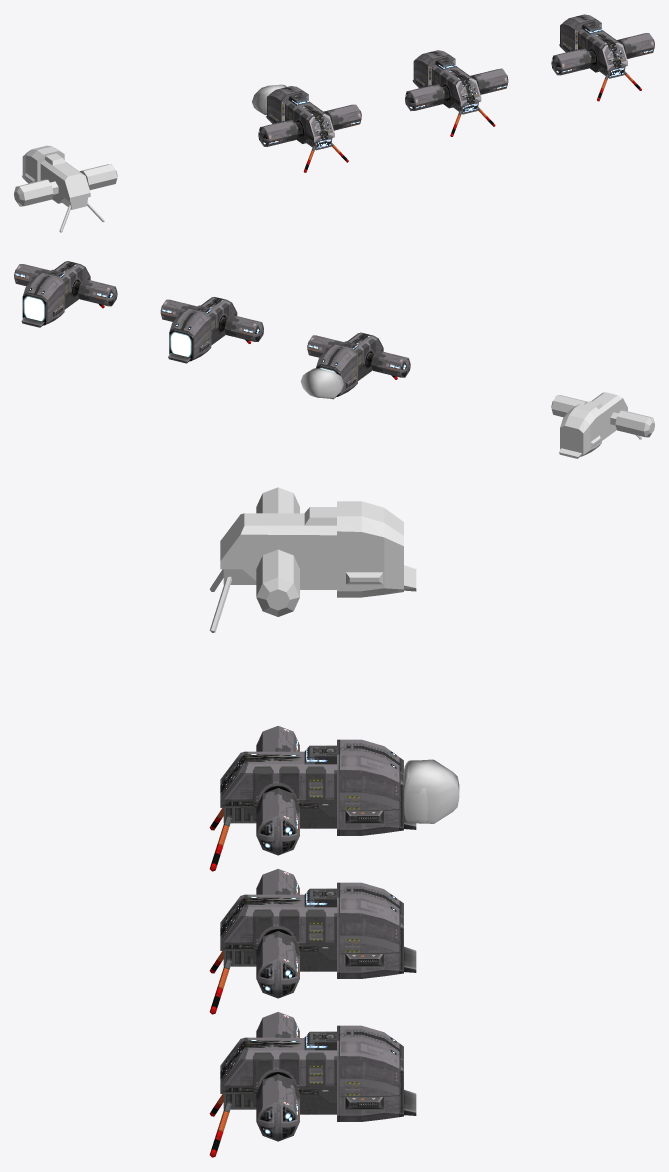
The model's file is smt_clee_san.DAE.
The picture shows the model from 3 angles, top to bottom: view 1: azimuth 30°, elevation 25°; view 2: azimuth 150°, elevation 25°; view 3: azimuth 270°, elevation 25°; orthographic projection. The views are drawn at different scales.
Parts seen in each view (by area): view 1: COL[Root], MULT[root_mesh]_LOD[1], MULT[root_mesh]_LOD[2], MULT[root_mesh]_LOD[0]; view 2: MULT[root_mesh]_LOD[2], MULT[root_mesh]_LOD[1], COL[Root], MULT[root_mesh]_LOD[0], GLOW[EngineGlow2_LOD0]_LOD[0]; view 3: MULT[root_mesh]_LOD[2], MULT[root_mesh]_LOD[1], COL[Root], MULT[root_mesh]_LOD[0], GLOW[EngineGlow2_LOD0]_LOD[0].
Part boxes in pixels (<box>): COL[Root]: <box>14,145,117,232</box>; MULT[root_mesh]_LOD[1]: <box>405,50,508,136</box>; MULT[root_mesh]_LOD[2]: <box>551,14,654,101</box>; MULT[root_mesh]_LOD[0]: <box>258,86,361,172</box>; MULT[root_mesh]_LOD[2]: <box>14,261,117,327</box>; MULT[root_mesh]_LOD[1]: <box>160,297,263,363</box>; COL[Root]: <box>551,392,654,458</box>; MULT[root_mesh]_LOD[0]: <box>307,332,410,399</box>; GLOW[EngineGlow2_LOD0]_LOD[0]: <box>300,368,343,398</box>; MULT[root_mesh]_LOD[2]: <box>209,1012,416,1157</box>; MULT[root_mesh]_LOD[1]: <box>209,869,416,1014</box>; COL[Root]: <box>209,487,416,632</box>; MULT[root_mesh]_LOD[0]: <box>209,726,416,871</box>; GLOW[EngineGlow2_LOD0]_LOD[0]: <box>404,759,459,823</box>.
Bounding box in the file's own units: 936 × 72.9 × 159.
Materials: 22 (22 with a texture image).
